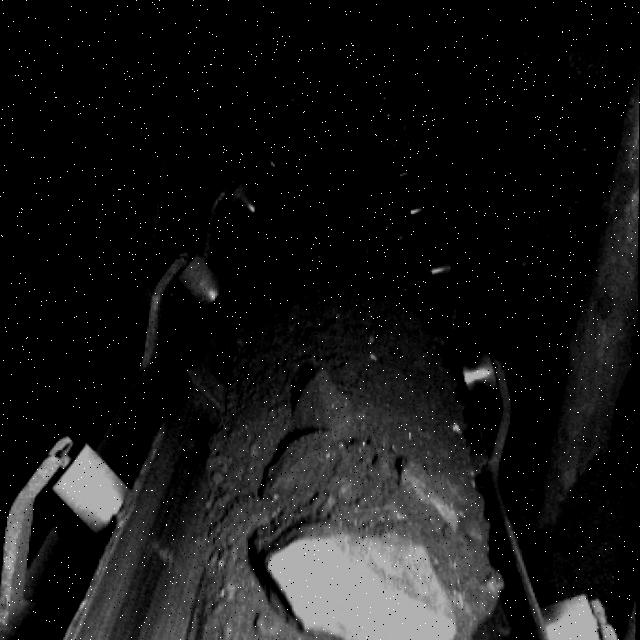large_sized_coal: (254, 423, 501, 640), (288, 364, 360, 431)
